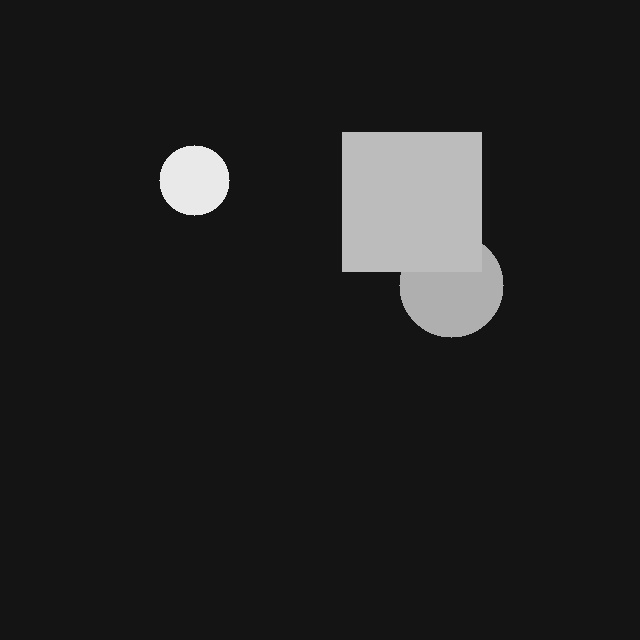circle: (399, 233, 503, 337), (159, 145, 229, 215)
square: (342, 132, 481, 271)
